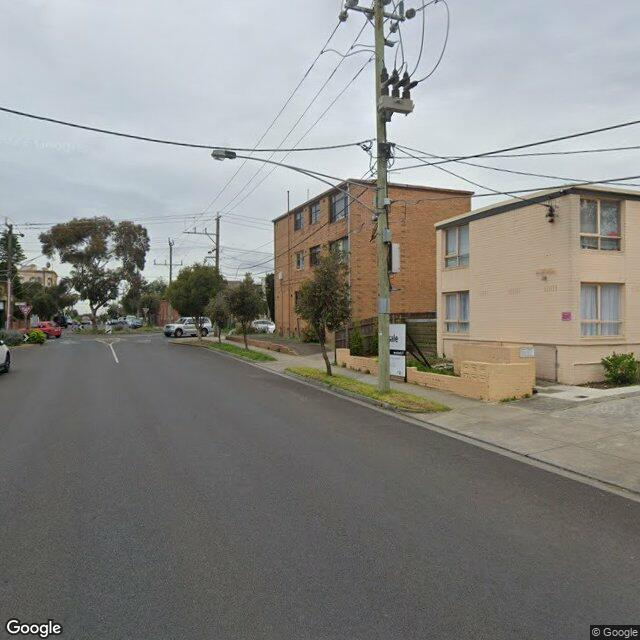HV-switch: (378, 66, 419, 116)
HV-transmission: (338, 0, 416, 34), (183, 227, 218, 235), (154, 259, 183, 266)
crossarm: (345, 3, 405, 23), (0, 230, 26, 239), (183, 232, 218, 235), (154, 263, 182, 266)
streetlight: (211, 150, 378, 213)
timber-pole: (372, 0, 392, 394), (5, 224, 13, 330), (167, 238, 173, 325), (215, 215, 219, 340)
